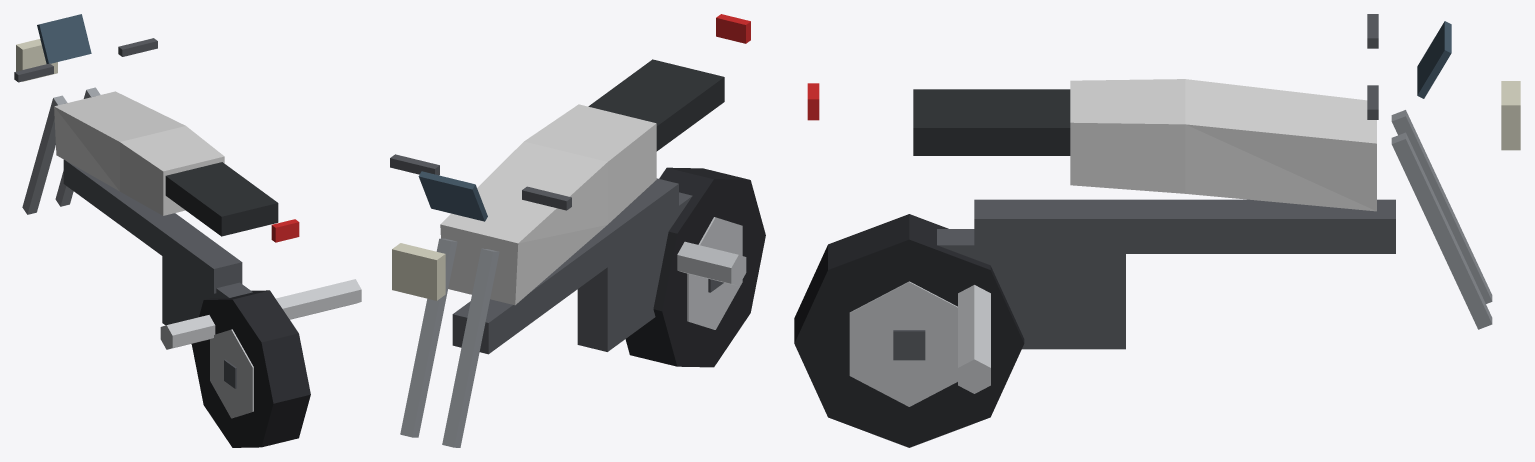
Rendered from motorcycle.glb.
3 renders of one model, left to right at view 1: azimuth 30°, elevation 25°; view 2: azimuth 150°, elevation 25°; view 3: azimuth 270°, elevation 25°, orthographic. The views are drawn at different scales.
Parts seen in each view (by area): view 1: Body, Wheel_Front; view 2: Body, Wheel_Front; view 3: Body, Wheel_Front.
Boxes of the visible parts, left/top/right/bottom form: Body: left=14, top=14, right=361, bottom=349; Wheel_Front: left=191, top=290, right=310, bottom=447; Body: left=390, top=14, right=750, bottom=447; Wheel_Front: left=625, top=167, right=765, bottom=367; Body: left=807, top=14, right=1520, bottom=393; Wheel_Front: left=794, top=214, right=1024, bottom=447.
Bounding box in the file's own units: 0.835 × 1.15 × 1.9.
